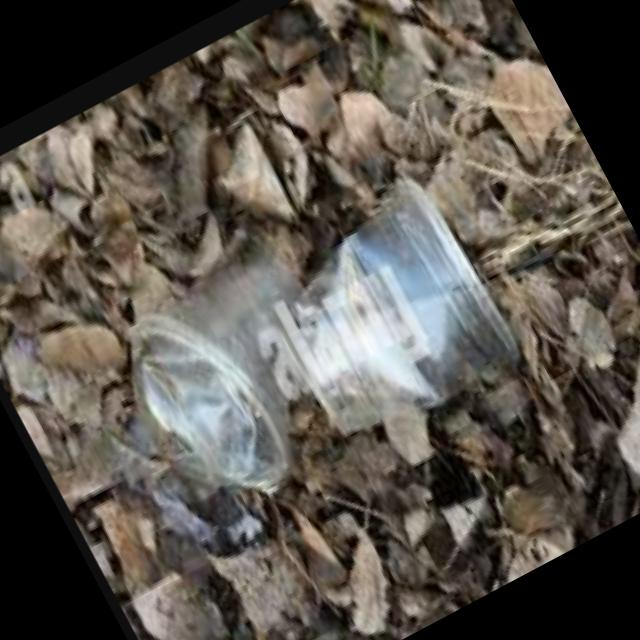GelasPlastik: (95, 154, 530, 536)
